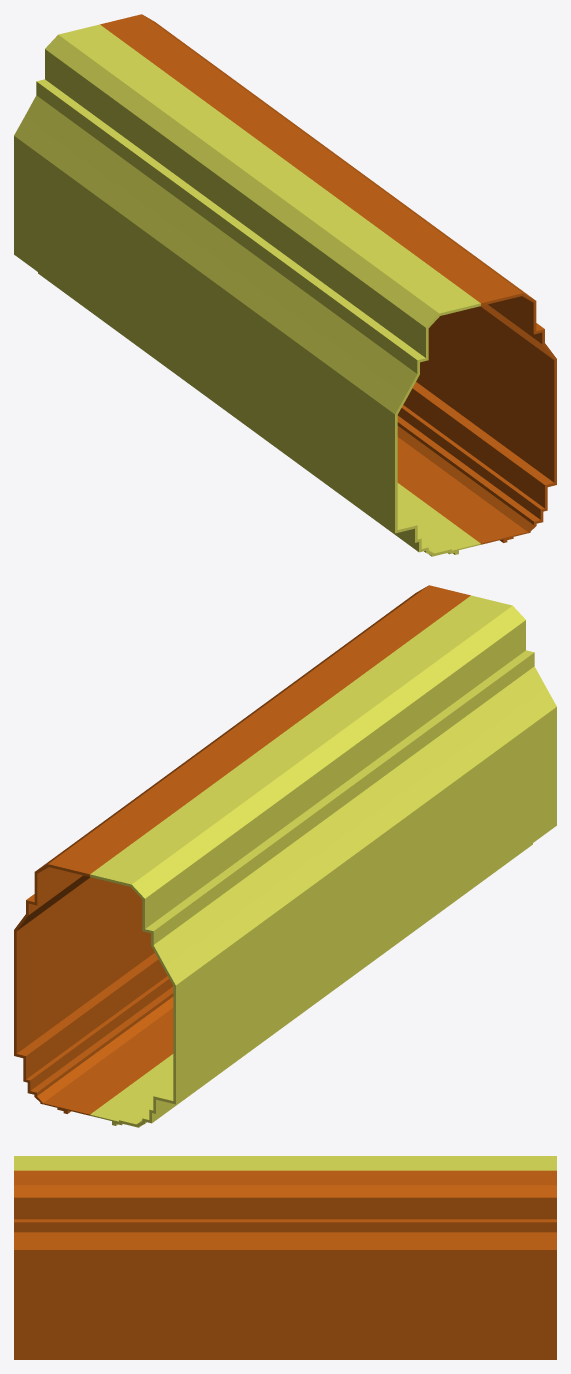
The model's file is TrainBoundsFullSize.FBX.
3 views of the same model, one above another, from view 1: azimuth 30°, elevation 25°; view 2: azimuth 150°, elevation 25°; view 3: azimuth 270°, elevation 25° (orthographic). The views are drawn at different scales.
Visible parts, largest first — view 1: TrainBoundsFullSize; view 2: TrainBoundsFullSize; view 3: TrainBoundsFullSize.
Part boxes in pixels (x1=…): TrainBoundsFullSize: x1=14, y1=14, x2=556, y2=556; TrainBoundsFullSize: x1=14, y1=585, x2=556, y2=1127; TrainBoundsFullSize: x1=14, y1=1156, x2=556, y2=1359.
Bounding box in the file's own units: 470 × 1918 × 681.
